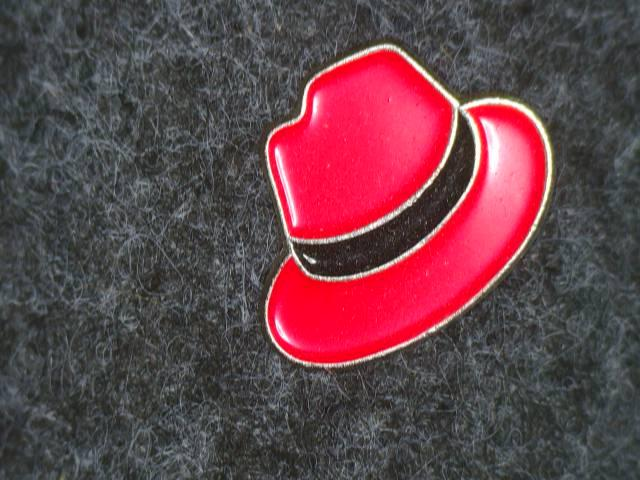Red-Hat: (215, 25, 592, 393)
